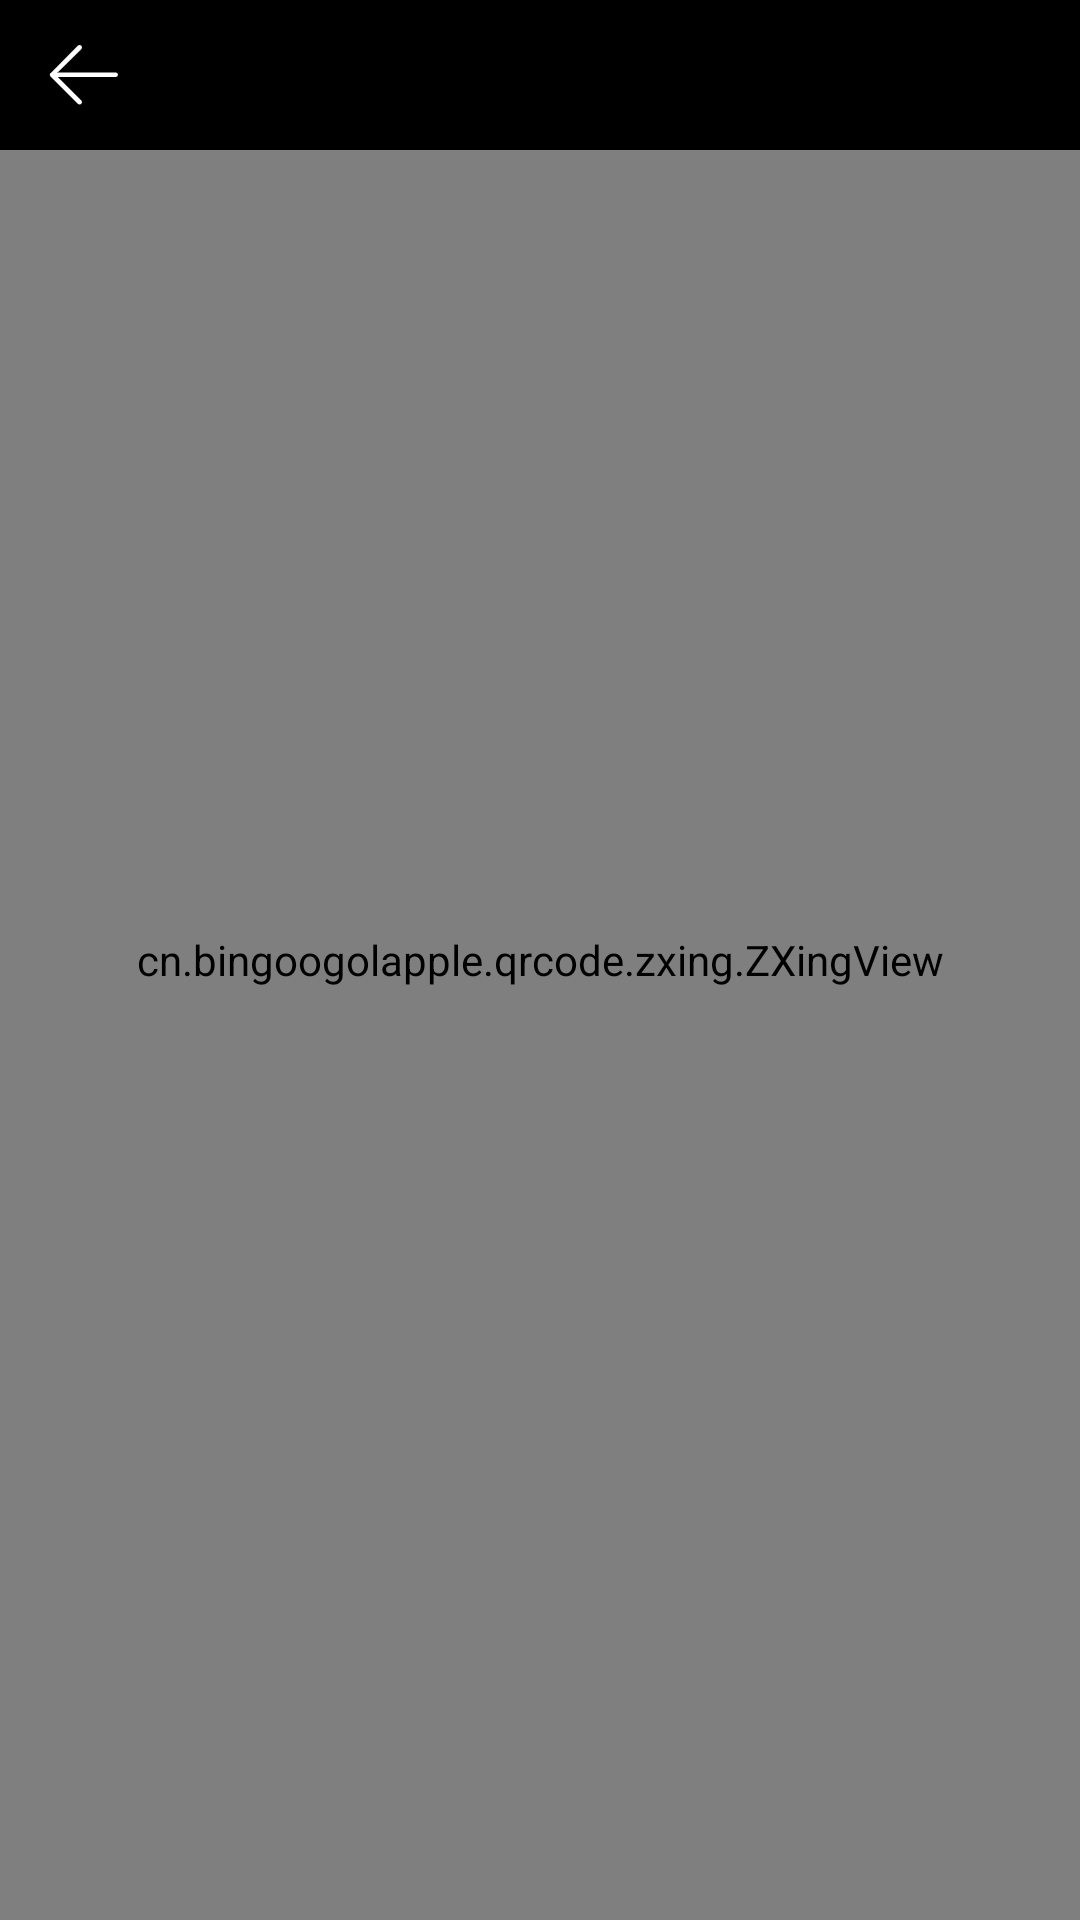

Screen size 1080*1920. Icon name, then its center in pixels as [x,y]:
goback: [83,75]
